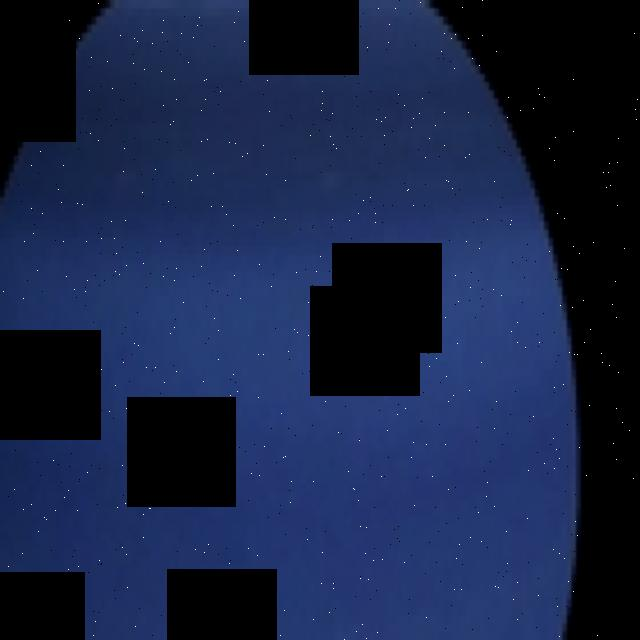Neptune: (1, 0, 580, 640)
